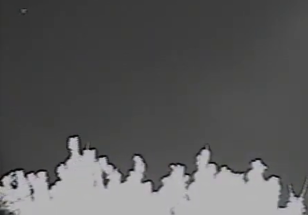Target: (22, 10, 27, 13)
